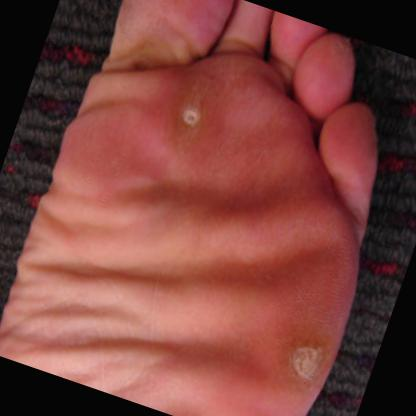Warts: (280, 331, 334, 394), (169, 86, 214, 140)
